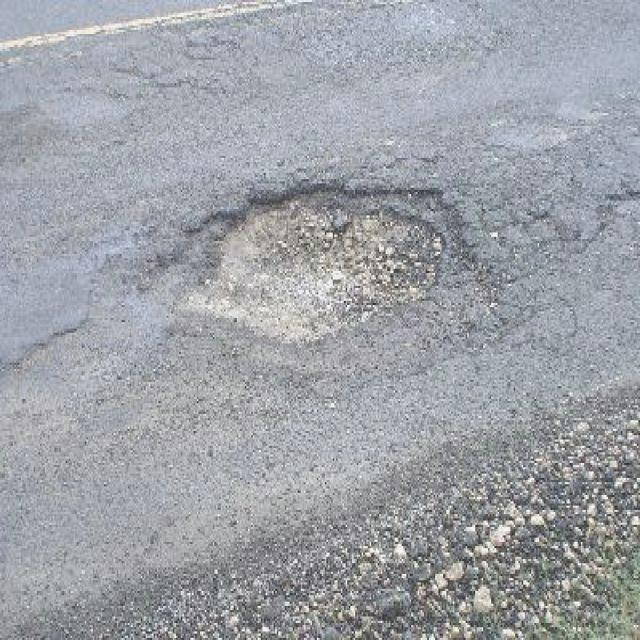Pothole: (139, 173, 496, 356)
